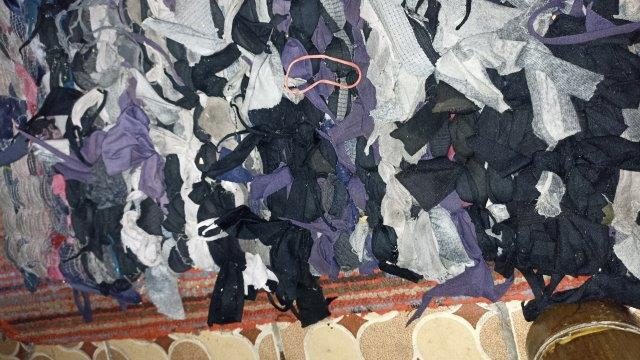karet: (284, 55, 361, 94)
